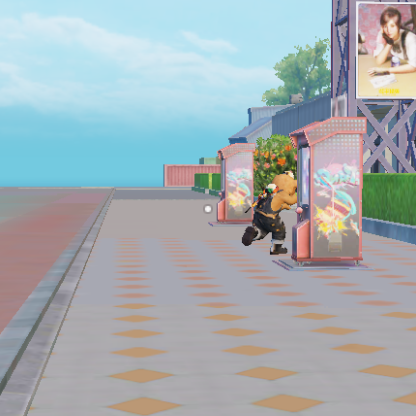ren: (242, 168, 296, 255), (366, 10, 412, 73)
tou: (272, 173, 298, 197), (381, 11, 398, 37)
